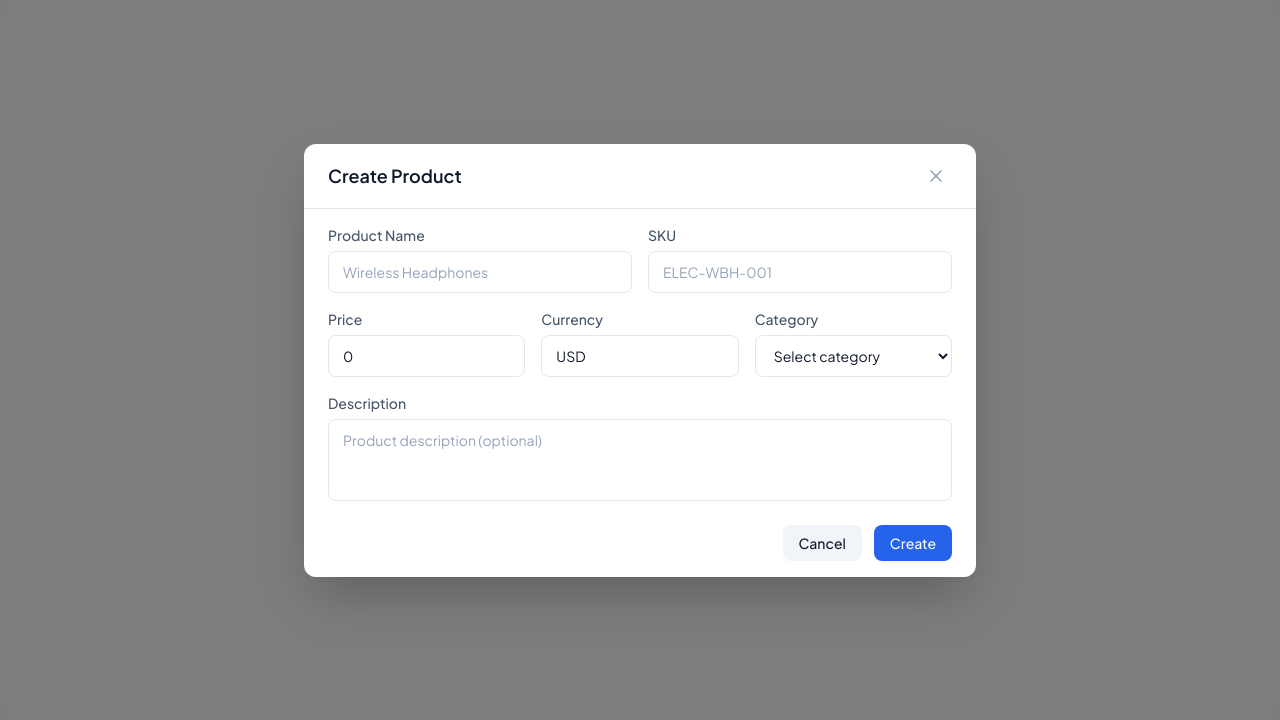
it: CreateProductModal › shows "SKU is required" when SKU is empty and form is submitted
Note: Fill name to get past that error
Type "Widget" into the field labelled "Product Name" at (480, 272), box x1=328 y1=250 x2=632 y2=292
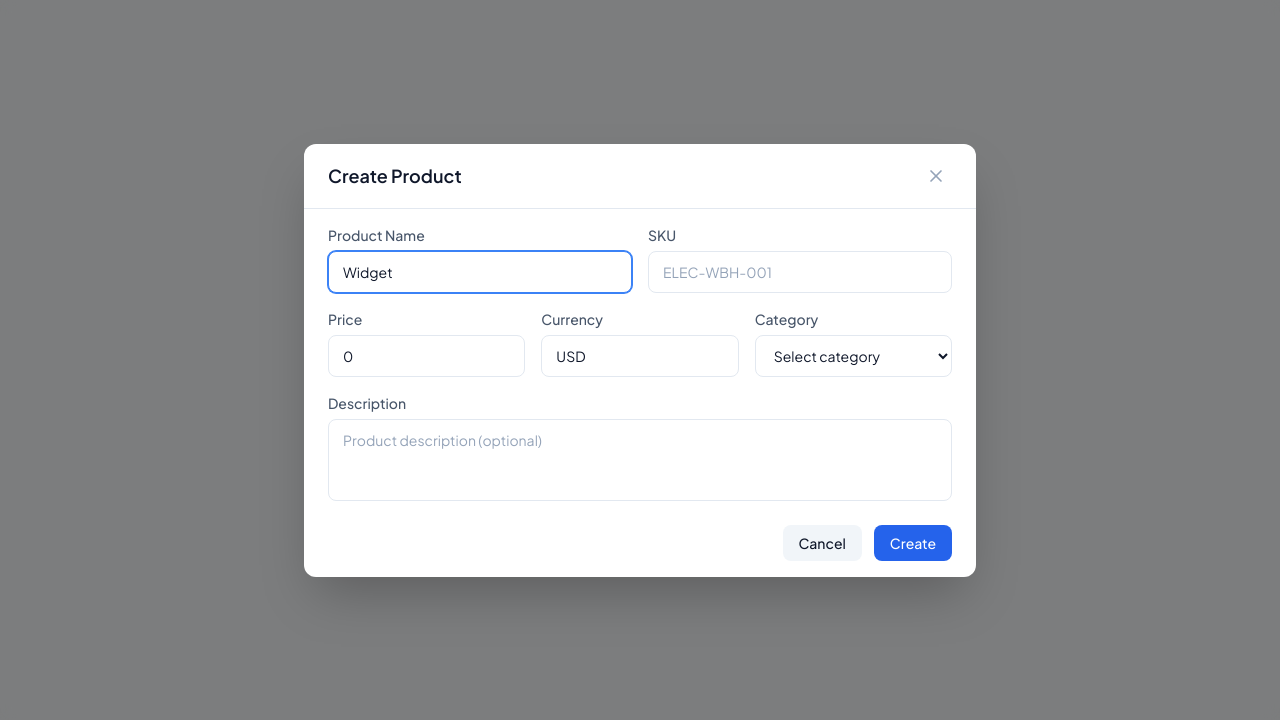
Click the button "Create" at (913, 542), box x1=874 y1=524 x2=952 y2=560
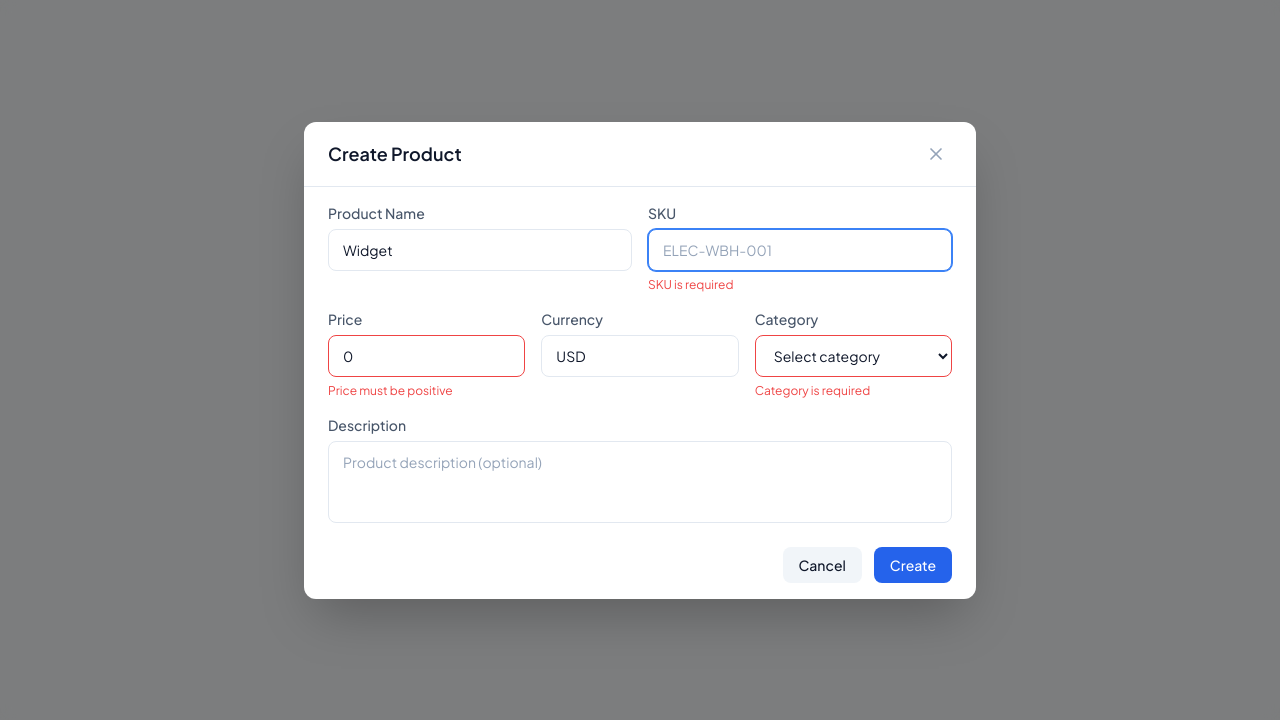
Expected: the text "SKU is required" is shown, x1=648 y1=276 x2=734 y2=292
